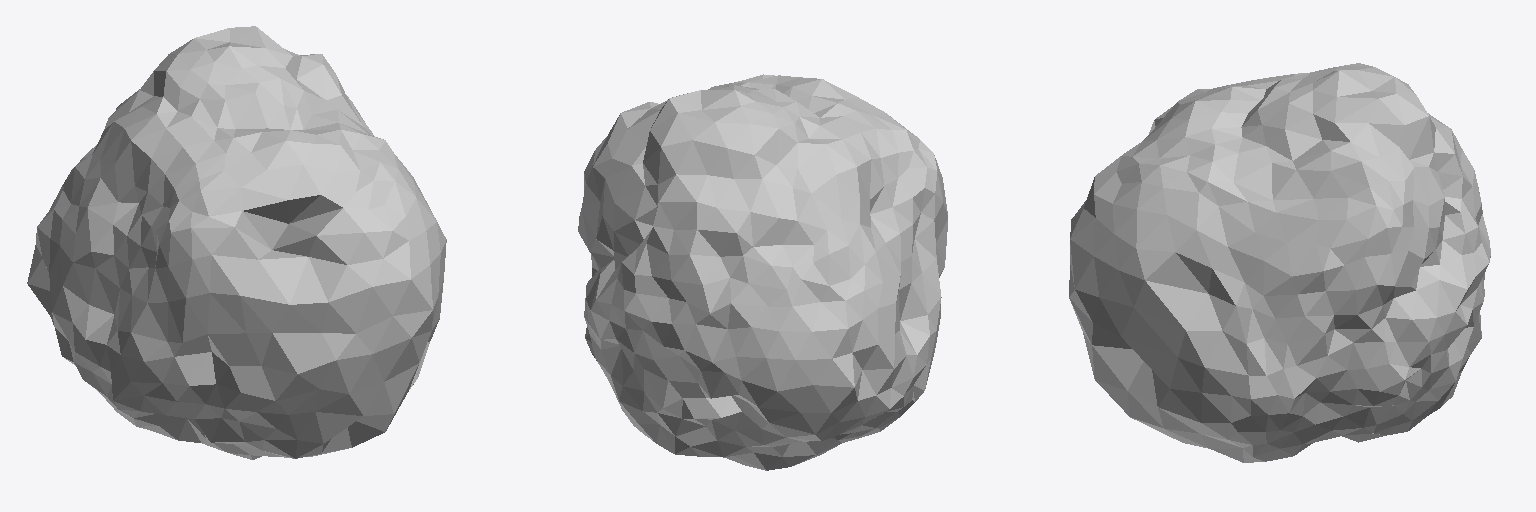
File: asteroid.obj
3 views of the same model, side by side, from view 1: azimuth 30°, elevation 25°; view 2: azimuth 150°, elevation 25°; view 3: azimuth 270°, elevation 25° (orthographic).
Parts seen in each view (by area): view 1: Cube; view 2: Cube; view 3: Cube.
Part boxes in pixels (left/top/right/bottom): Cube: left=27, top=26, right=446, bottom=459; Cube: left=578, top=74, right=947, bottom=470; Cube: left=1069, top=63, right=1490, bottom=462.
Size of the model in its own units: 10.34 by 11.2 by 11.45.